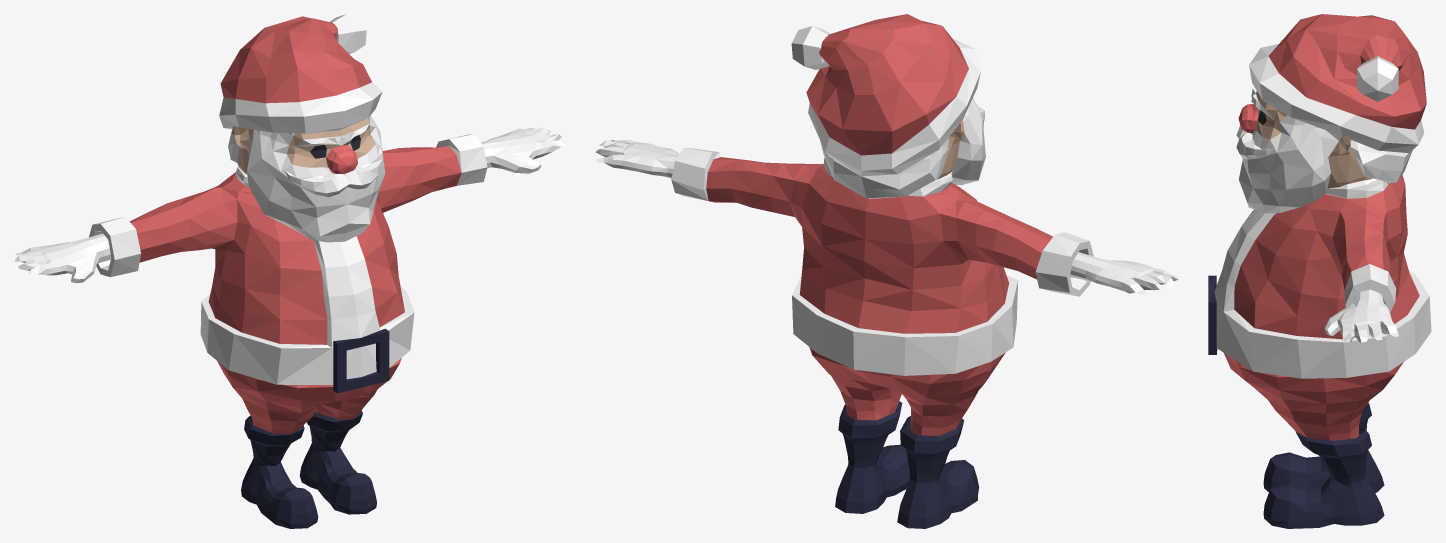
Rendered from Santa_Claus_man.fbx.
The picture shows the model from 3 angles, left to right: view 1: azimuth 30°, elevation 25°; view 2: azimuth 150°, elevation 25°; view 3: azimuth 270°, elevation 25°; orthographic projection. The views are drawn at different scales.
Parts seen in each view (by area): view 1: Santa_Claus_man; view 2: Santa_Claus_man; view 3: Santa_Claus_man.
Boxes of the visible parts, left/top/right/bottom form: Santa_Claus_man: left=14, top=14, right=566, bottom=528; Santa_Claus_man: left=595, top=14, right=1179, bottom=528; Santa_Claus_man: left=1208, top=14, right=1431, bottom=528.
Bounding box in the file's own units: 213 × 172 × 71.81.
